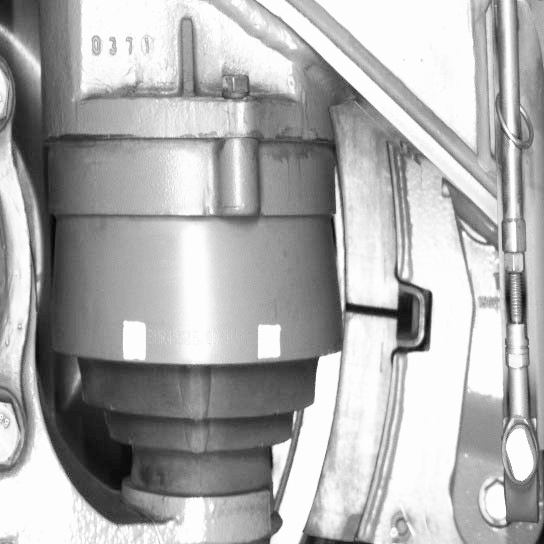ClosedKnifeSwitch: (297, 137, 410, 541)
